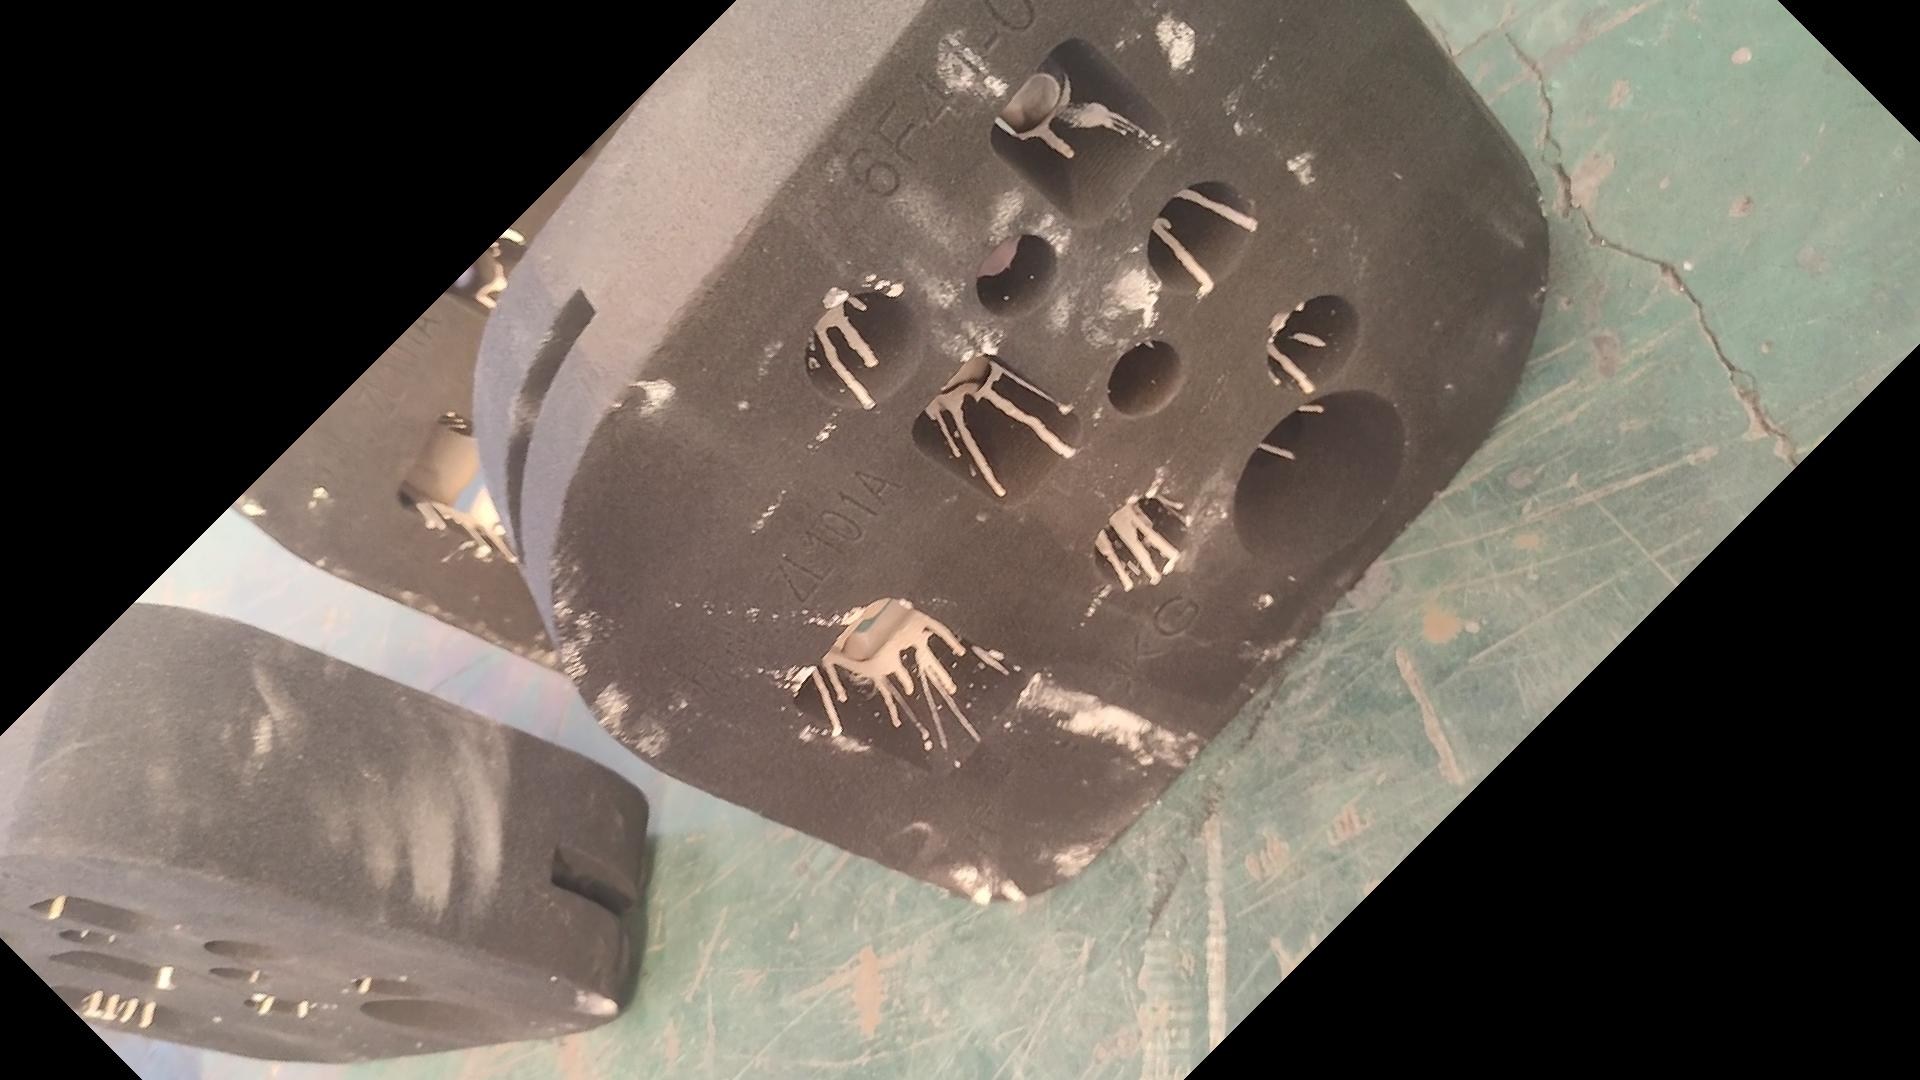pouring hole: (1229, 390, 1410, 570), (357, 998, 509, 1036)
